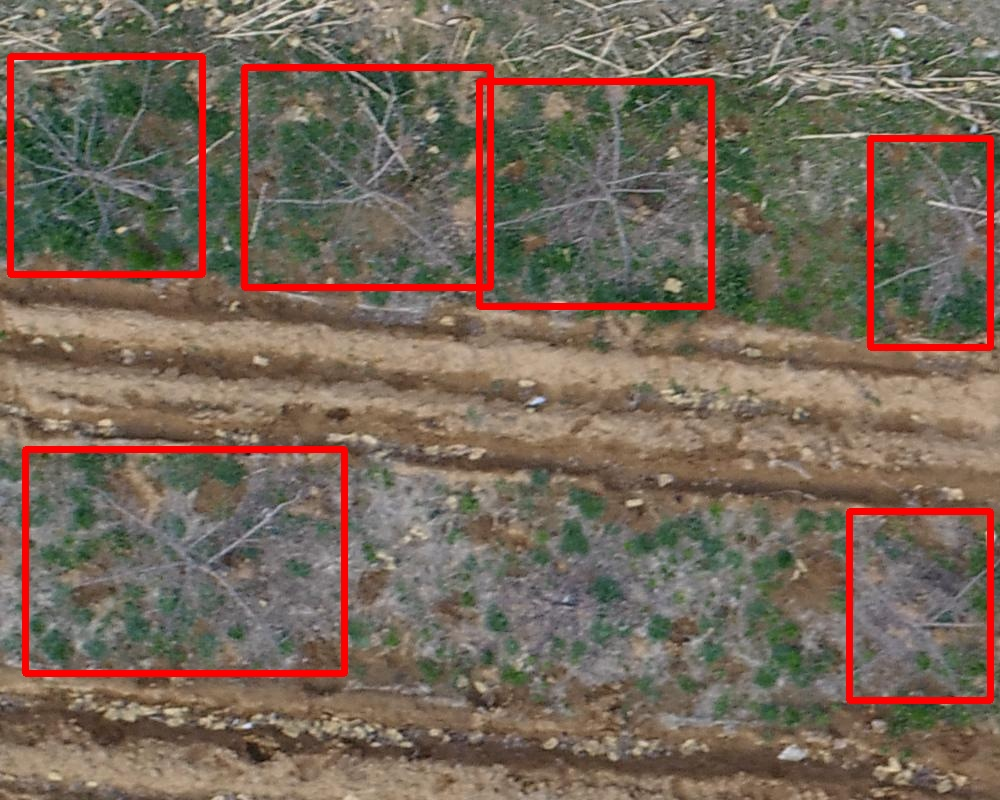apple: (25, 449, 344, 673), (244, 67, 490, 287), (479, 81, 711, 306), (10, 56, 202, 274), (849, 511, 990, 700), (870, 138, 990, 347)
